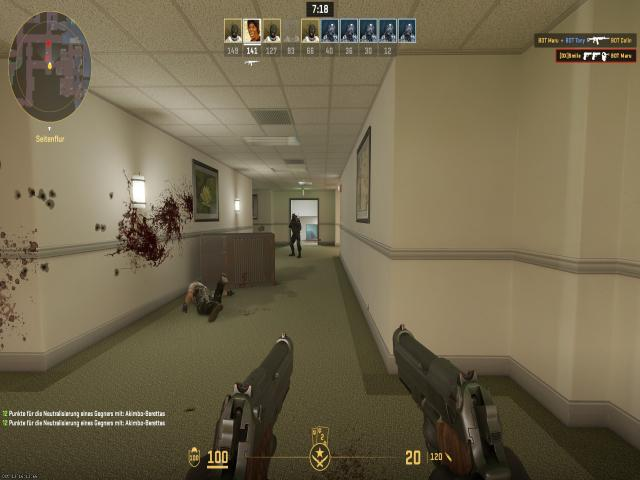CT: (290, 212, 300, 255)
CT-Head: (292, 214, 296, 220)
Dead: (183, 282, 226, 312)
